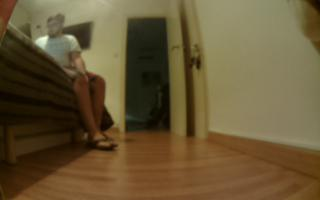person: (33, 9, 124, 154)
